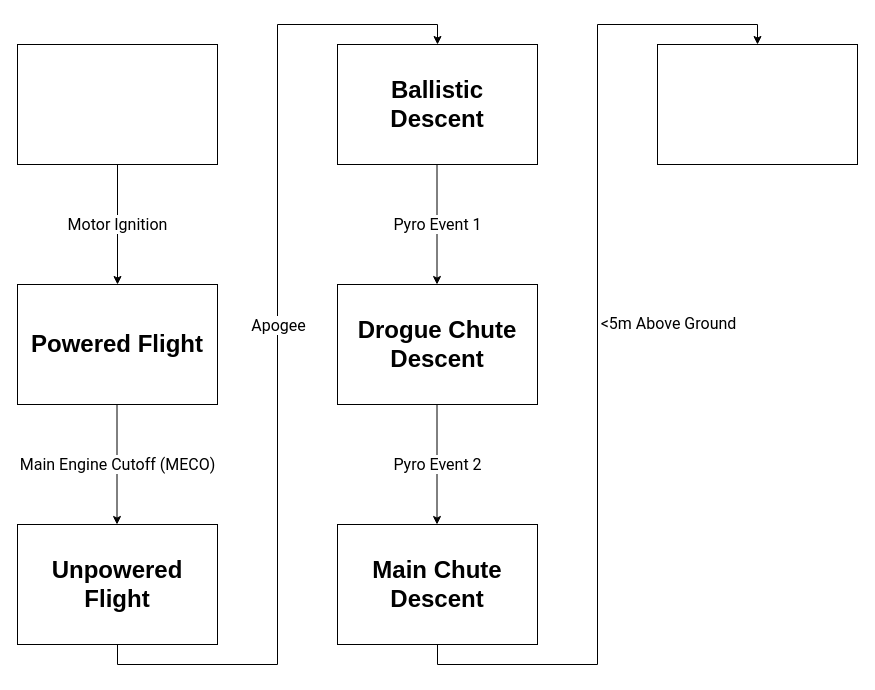
The diagram is 875 pixels wide and 690 high, and some of its shapes have lost their labels. The centre of each missing label's shape, as x and y in pixels:
Ground Idle: (x=117, y=104)
Landing: (x=757, y=104)
